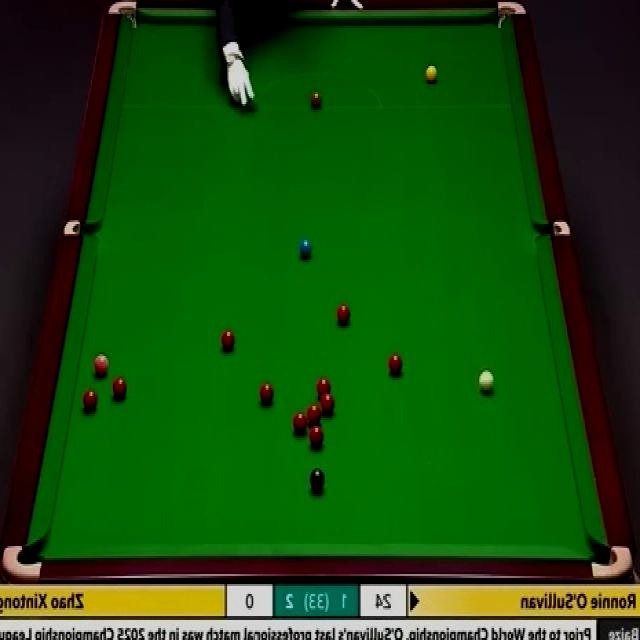black-ball: (309, 467, 324, 492)
blue-ball: (299, 237, 311, 260)
brown-ball: (309, 91, 323, 109)
pink-ball: (93, 353, 110, 375)
red-ball: (257, 380, 274, 408), (80, 388, 98, 412), (334, 305, 352, 326), (113, 375, 128, 400), (292, 410, 307, 434), (221, 328, 235, 352), (321, 393, 334, 418), (389, 351, 403, 374), (305, 407, 321, 427), (310, 426, 324, 448), (317, 378, 331, 399)
white-ball: (478, 369, 496, 393)
yellow-ball: (425, 64, 438, 86)
